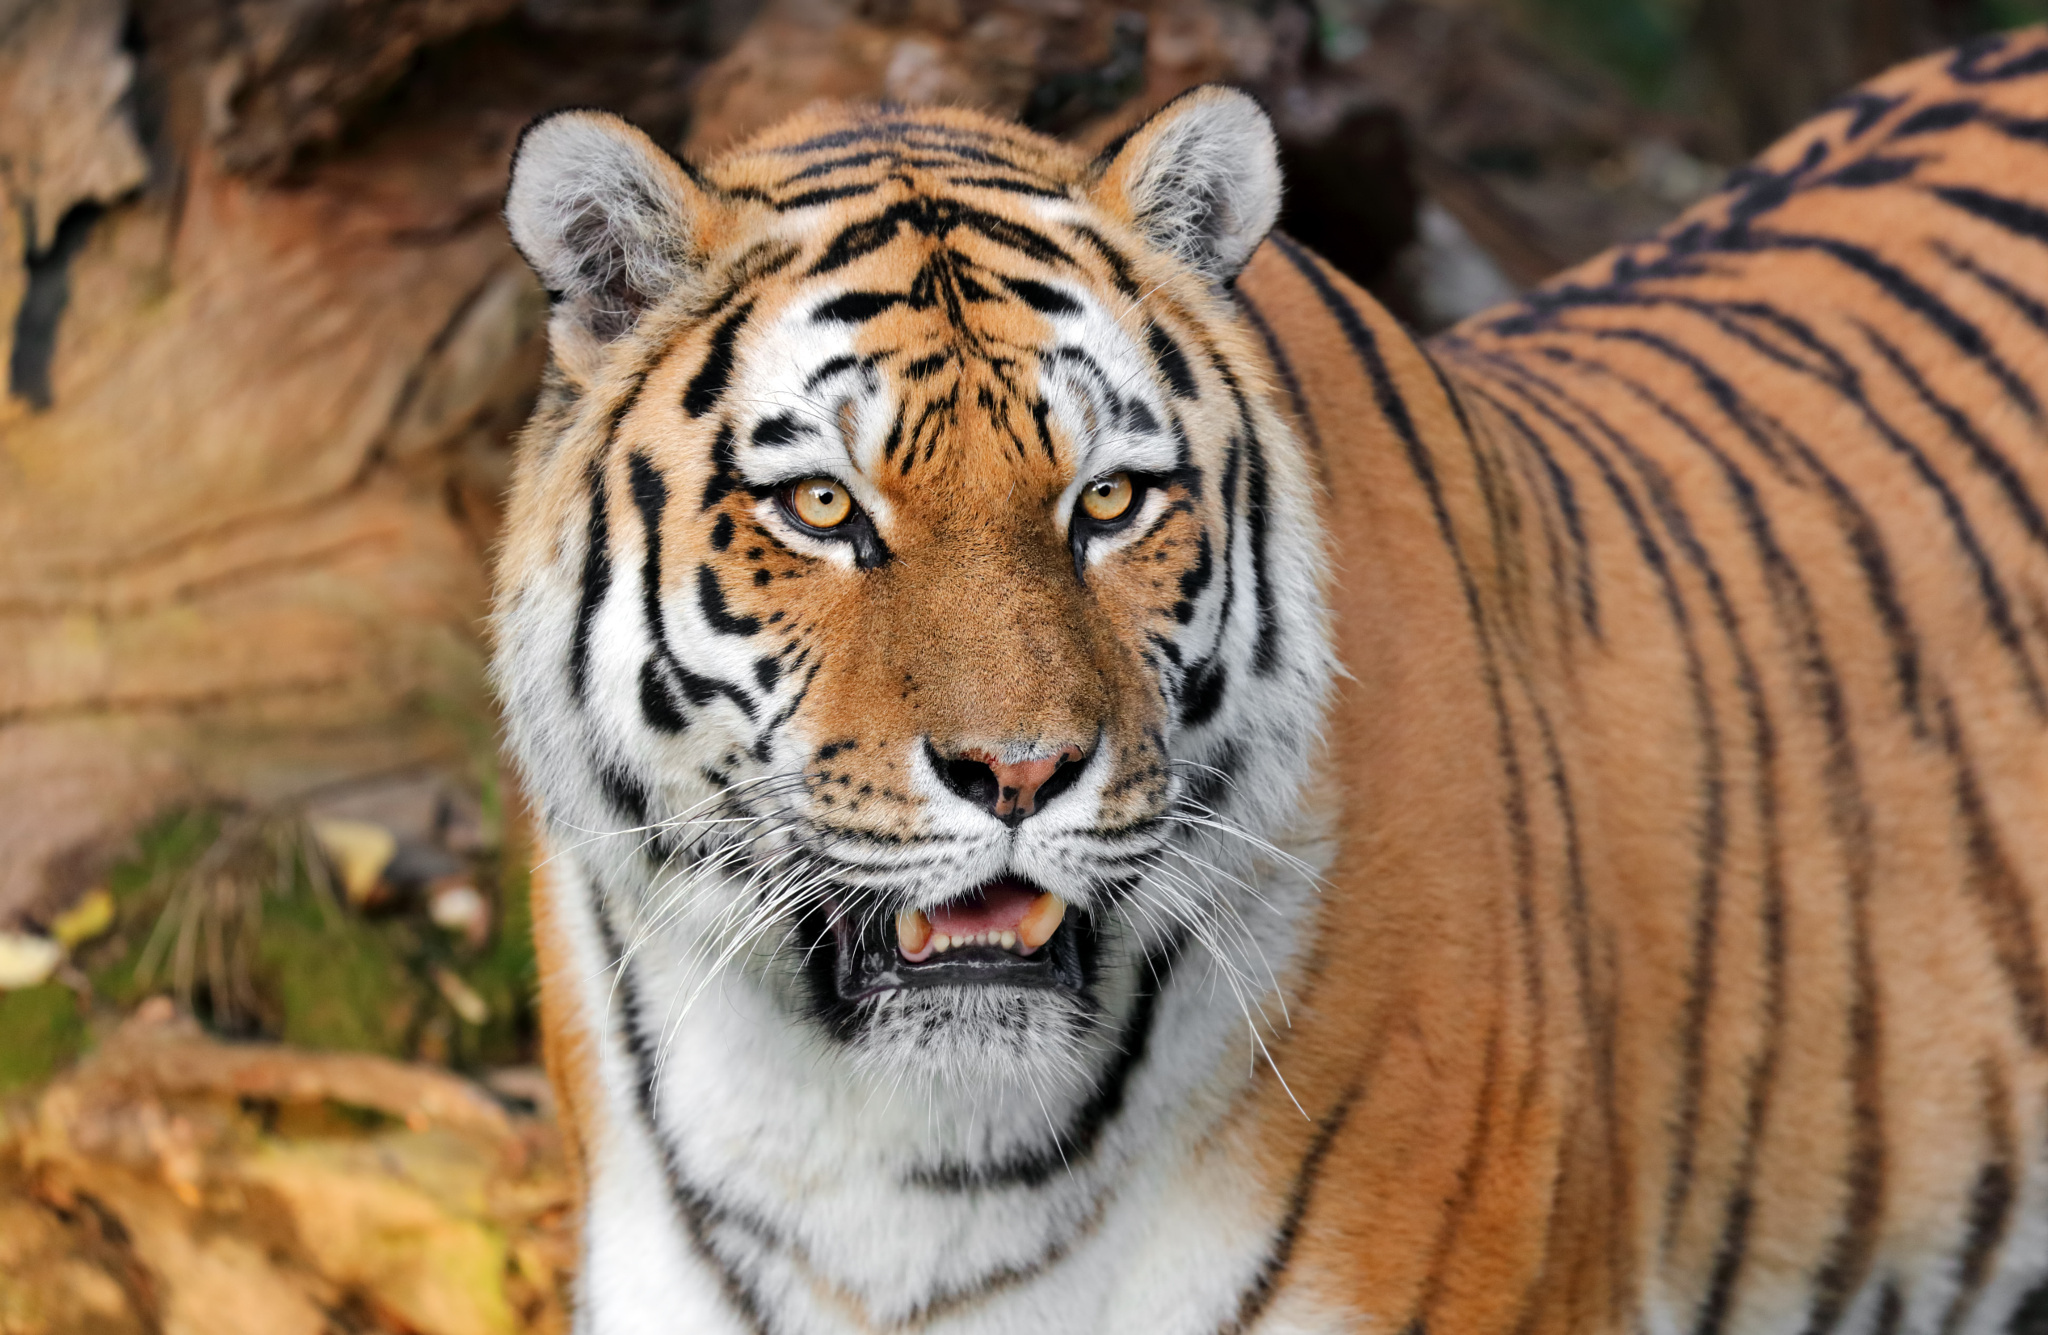tiger: (402, 67, 2047, 1287)
